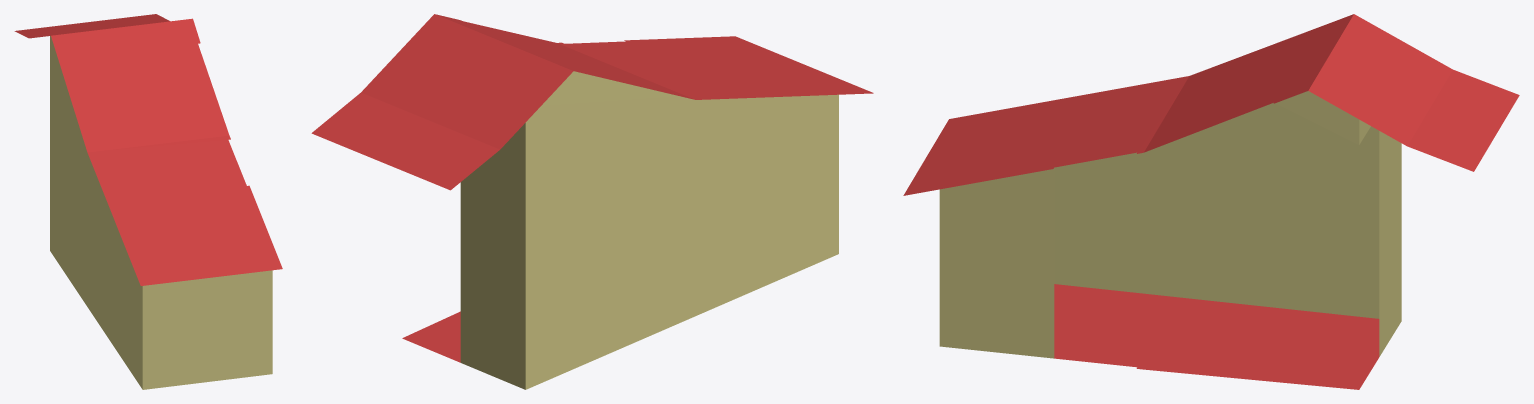
3 views of the same model, side by side, from view 1: azimuth 30°, elevation 25°; view 2: azimuth 150°, elevation 25°; view 3: azimuth 270°, elevation 25° (orthographic). The views are drawn at different scales.
Size of the model in its own units: 12.33 by 23.35 by 12.38.
